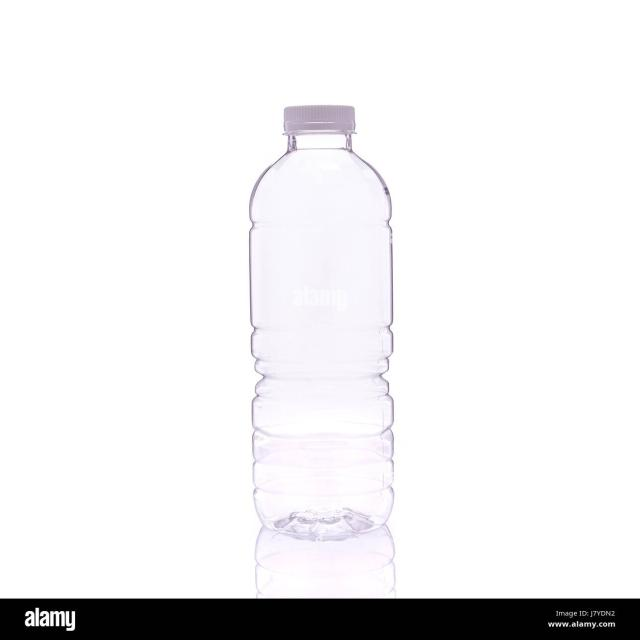bottle: (220, 56, 462, 578)
